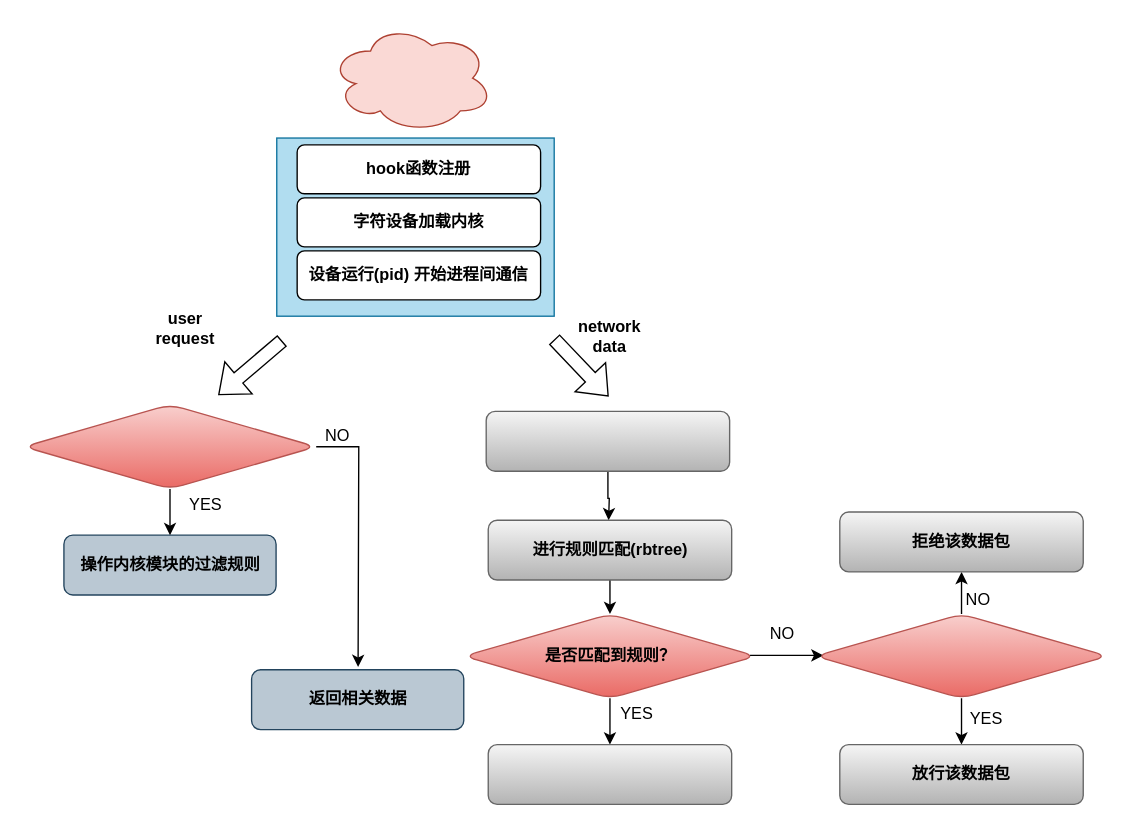
The diagram is 1132 pixels wide and 828 high, and some of its shapes have lost their labels. Here are the shapes that lost their labels. From the top down, the box of each, then its label:
(328, 22, 493, 133): 预处理
(22, 403, 316, 489): 规则操作？
(485, 410, 730, 471): 获得五元组信息
(814, 613, 1108, 698): 默认接受？
(487, 743, 732, 804): 按规则对数据包操作
